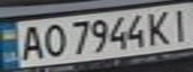4: (124, 11, 151, 50), (106, 13, 130, 51)
7: (66, 18, 90, 56)
9: (87, 16, 112, 54)
A: (15, 22, 48, 61)
I: (166, 4, 193, 42)
K: (145, 8, 175, 46)
O: (39, 20, 69, 58)
